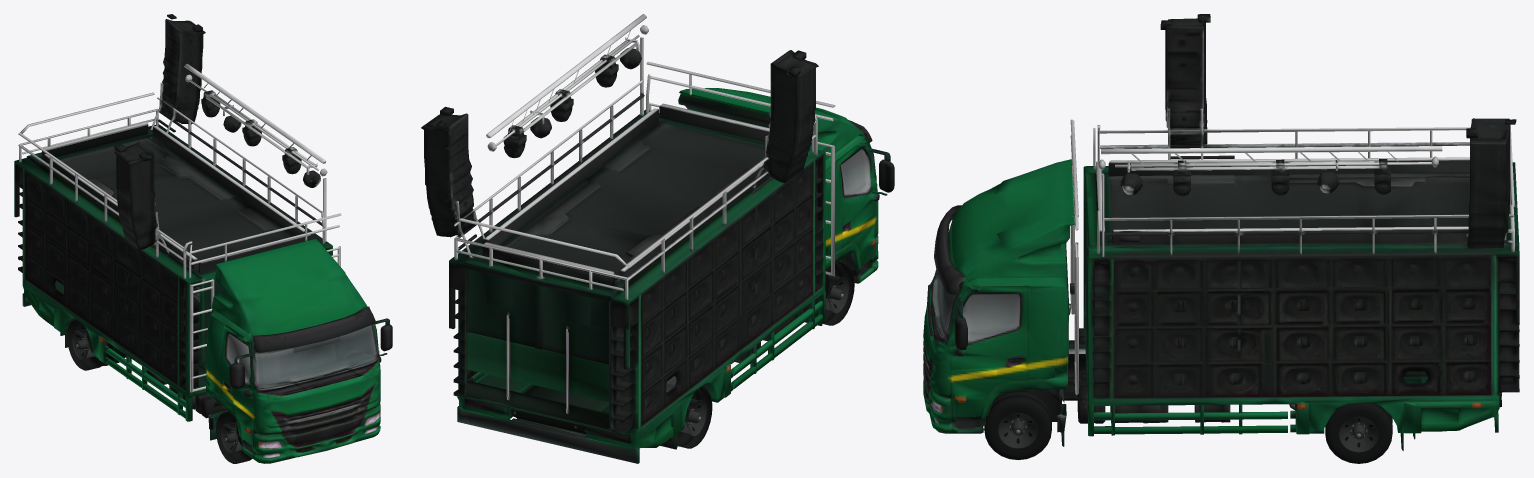
Rendered from caminhao-gm-0.glb.
3 views of the same model, side by side, from view 1: azimuth 30°, elevation 25°; view 2: azimuth 150°, elevation 25°; view 3: azimuth 270°, elevation 25° (orthographic). The views are drawn at different scales.
Parts seen in each view (by area): view 1: Frota_truck, Tyre_Rear_L, Tyre_Front_L; view 2: Frota_truck, Tyre_Front_L, Tyre_Rear_L; view 3: Frota_truck, Tyre_Front_R, Tyre_Rear_R.
Part boxes in pixels (x1=…): Frota_truck: x1=14, y1=14, x2=392, y2=463; Tyre_Rear_L: x1=67, y1=319, x2=119, y2=370; Tyre_Front_L: x1=216, y1=411, x2=252, y2=463; Frota_truck: x1=421, y1=14, x2=894, y2=463; Tyre_Front_L: x1=822, y1=261, x2=854, y2=325; Tyre_Rear_L: x1=677, y1=386, x2=712, y2=448; Frota_truck: x1=923, y1=14, x2=1519, y2=450; Tyre_Front_R: x1=984, y1=391, x2=1051, y2=459; Tyre_Rear_R: x1=1325, y1=402, x2=1392, y2=463.
Size of the model in its own units: 3.3 by 4.4 by 6.8.
Materials: 1 (1 with a texture image).
